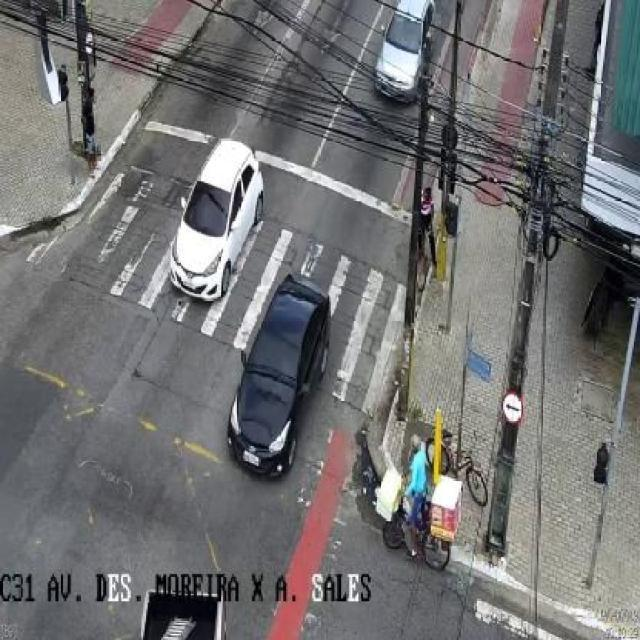Car: (226, 276, 331, 478), (169, 137, 265, 300), (372, 0, 439, 104)
Cycle: (424, 429, 491, 508), (380, 502, 452, 572)
